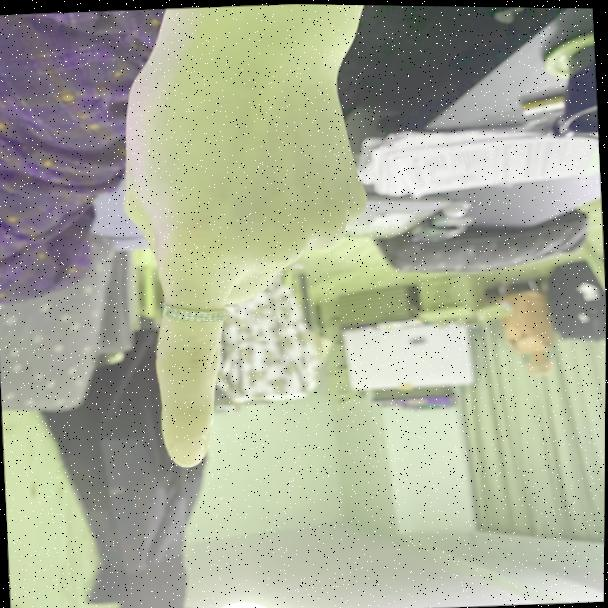one: (98, 24, 393, 483)
